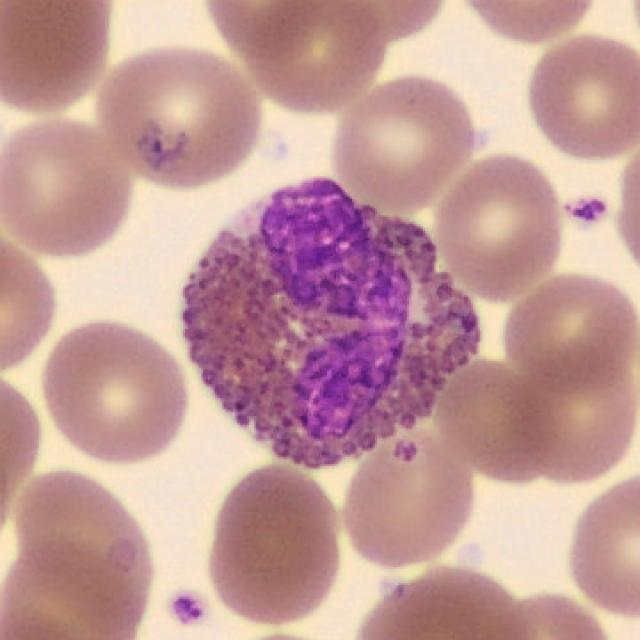Eosinofilo: (181, 180, 480, 471)
